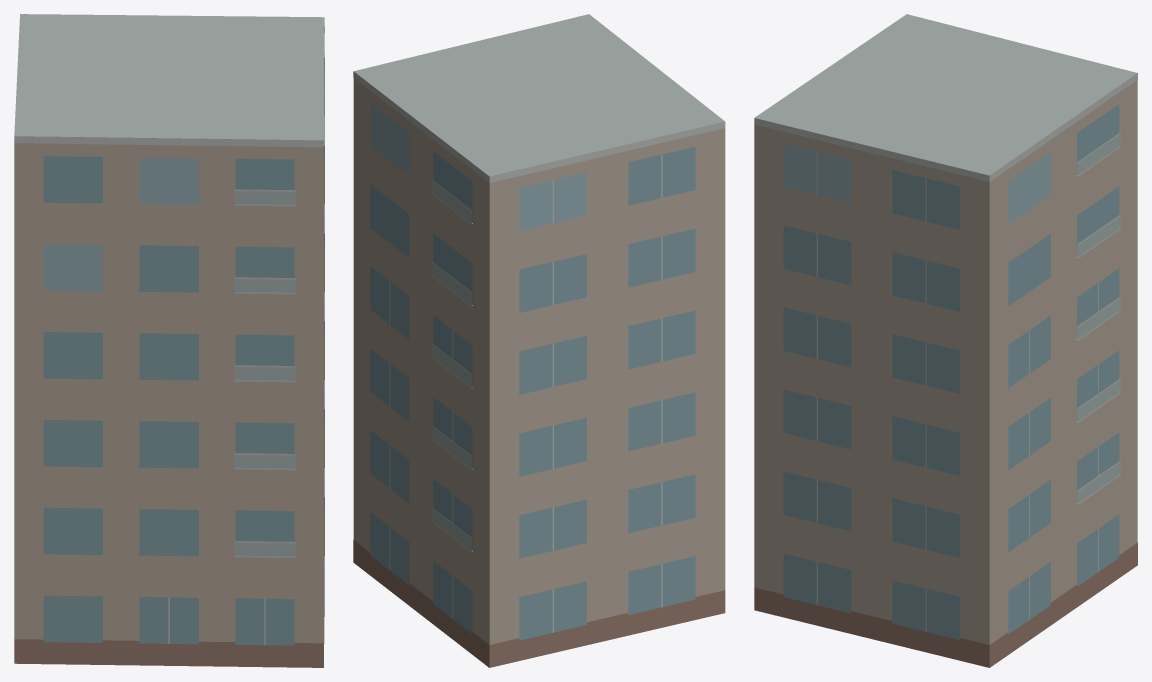
Rendered from survey-upis-32916707.glb.
3 views of the same model, side by side, from view 1: azimuth 30°, elevation 25°; view 2: azimuth 150°, elevation 25°; view 3: azimuth 270°, elevation 25° (orthographic). The views are drawn at different scales.
Parts seen in each view (by area): view 1: survey-upis-32916707.tmp; view 2: survey-upis-32916707.tmp; view 3: survey-upis-32916707.tmp.
Boxes of the visible parts, <box> form: survey-upis-32916707.tmp: <box>14,14,324,667</box>; survey-upis-32916707.tmp: <box>353,14,725,667</box>; survey-upis-32916707.tmp: <box>754,14,1137,667</box>.
Bounding box in the file's own units: 12.89 × 18.3 × 12.93.
